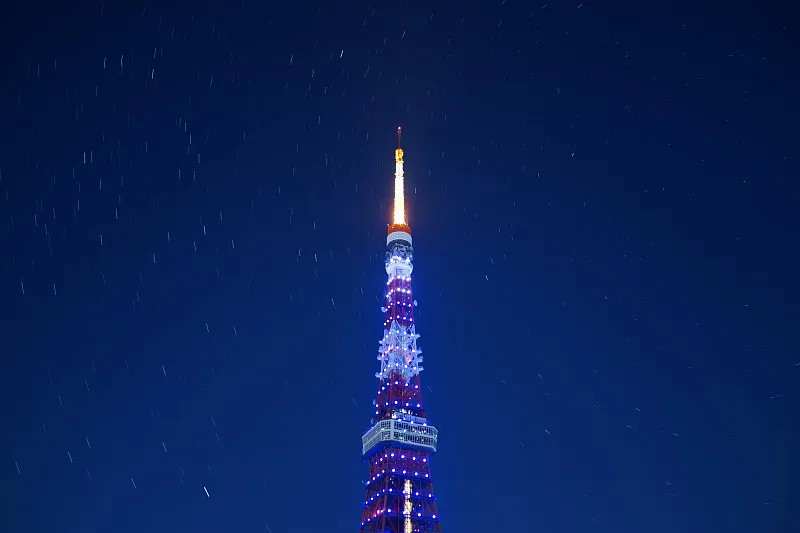Tokyo: (355, 121, 444, 531)
